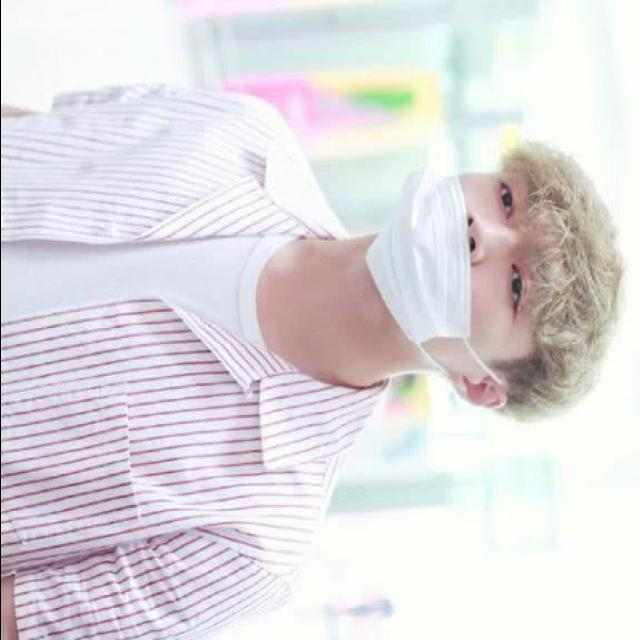no_mask: (362, 162, 534, 364)
